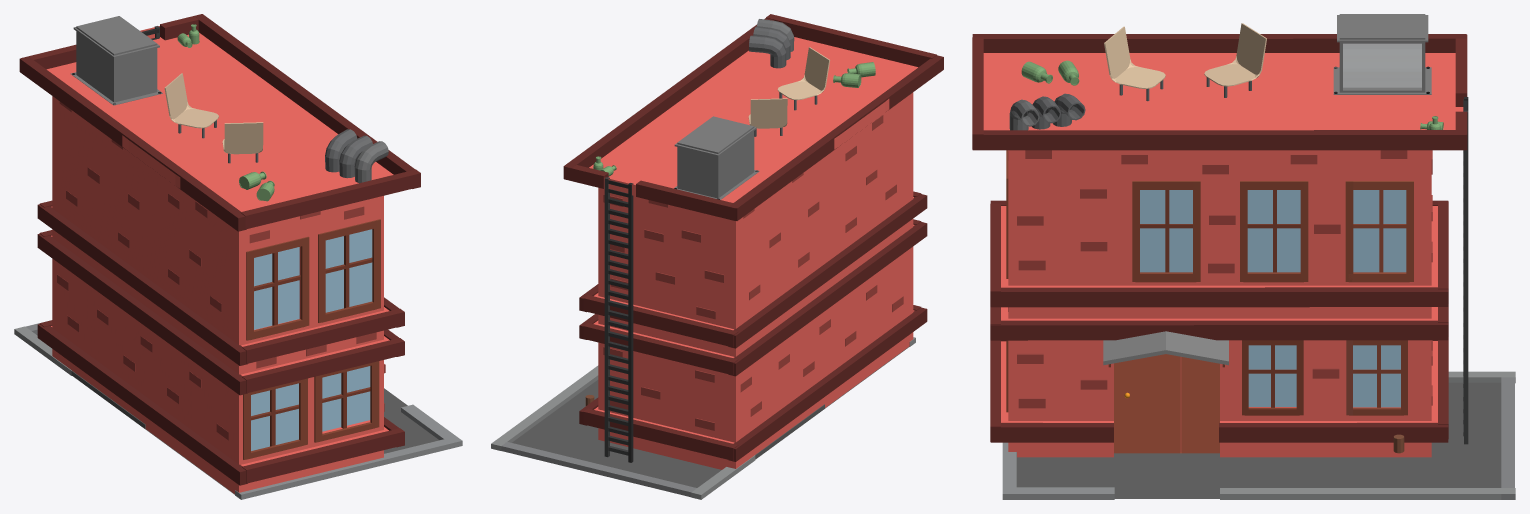
File: RedHouse100%.fbx
The picture shows the model from 3 angles, left to right: view 1: azimuth 30°, elevation 25°; view 2: azimuth 150°, elevation 25°; view 3: azimuth 270°, elevation 25°; orthographic projection. The views are drawn at different scales.
Visible parts, largest first — view 1: Cube.111, Cube, Cube.097, Cube.098, Cube.113, Cube.121, Cube.118, Cube.126, Cube.115, Cube.112, Cube.119, Cube.127 (+19 smaller); view 2: Cube.111, Plane.001, Cube, Cube.113, Cube.118, Cube.126, Cube.121, Cube.115, Cube.112, Cube.114, Cube.122, Cube.125 (+9 smaller); view 3: Cube.111, Plane.001, Cube.115, Cube.110, Cube.116, Cube.123, Cube.124, Cube.113, Cube, Cube.094, Cube.095, Cube.096 (+29 smaller).
Boxes of the visible parts, x1,y1,x2,y2 form: Cube.111: (46,26,393,493); Cube: (70,16,162,105); Cube.097: (254,229,372,329); Cube.098: (251,309,370,450); Cube.113: (19,56,246,231); Cube.121: (37,233,247,395); Cube.118: (37,204,247,365); Cube.126: (37,324,247,485); Cube.115: (194,14,420,188); Cube.112: (240,169,420,229); Cube.119: (242,308,404,363); Cube.127: (242,428,404,483); Cube.111: (589,37,917,469); Plane.001: (512,344,912,487); Cube: (674,116,759,199); Cube.113: (729,55,943,220); Cube.118: (728,194,927,348); Cube.126: (728,307,927,461); Cube.121: (728,222,927,376); Cube.115: (563,18,773,178); Cube.112: (766,14,936,67); Cube.114: (564,165,735,220); Cube.122: (583,323,738,375); Cube.125: (583,408,738,460); Cube.111: (983,53,1463,457); Plane.001: (1016,382,1501,498); Cube.115: (972,130,1466,150); Cube.110: (1114,354,1219,453); Cube.116: (990,287,1448,307); Cube.123: (990,320,1448,340); Cube.124: (990,423,1448,442); Cube.113: (972,34,1466,52); Cube: (1333,14,1431,94); Cube.094: (1353,190,1406,272); Cube.095: (1247,190,1300,272); Cube.096: (1140,190,1192,272).
Bounding box in the file's own units: 328 × 438 × 573.
